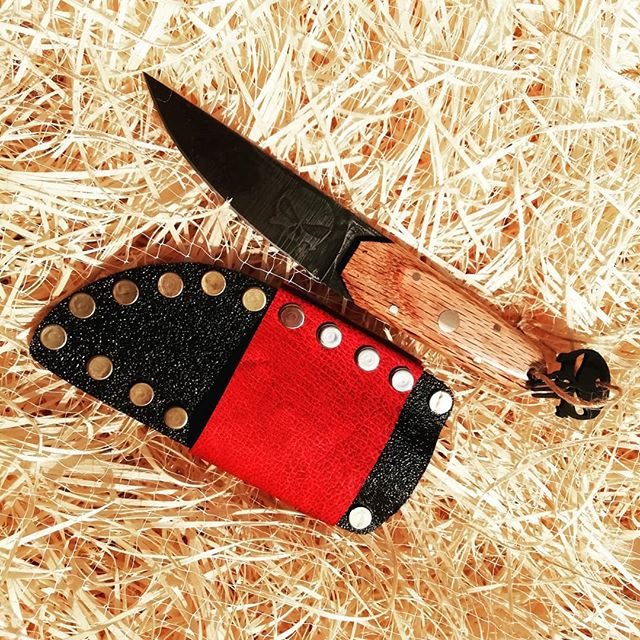knife: (143, 70, 547, 385)
